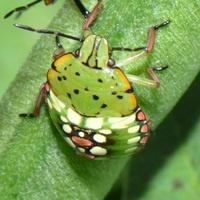insect: (14, 0, 169, 158)
